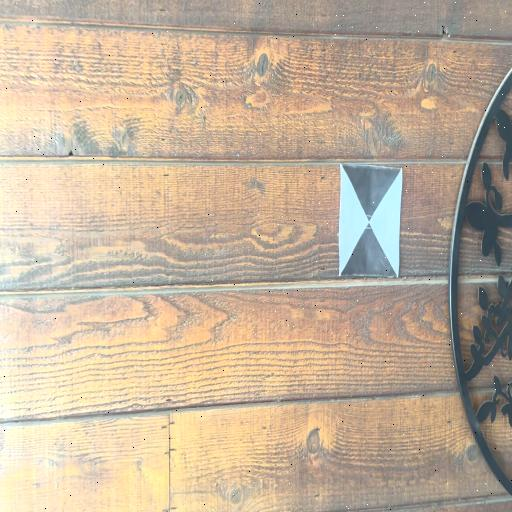target: (340, 165, 400, 278)
